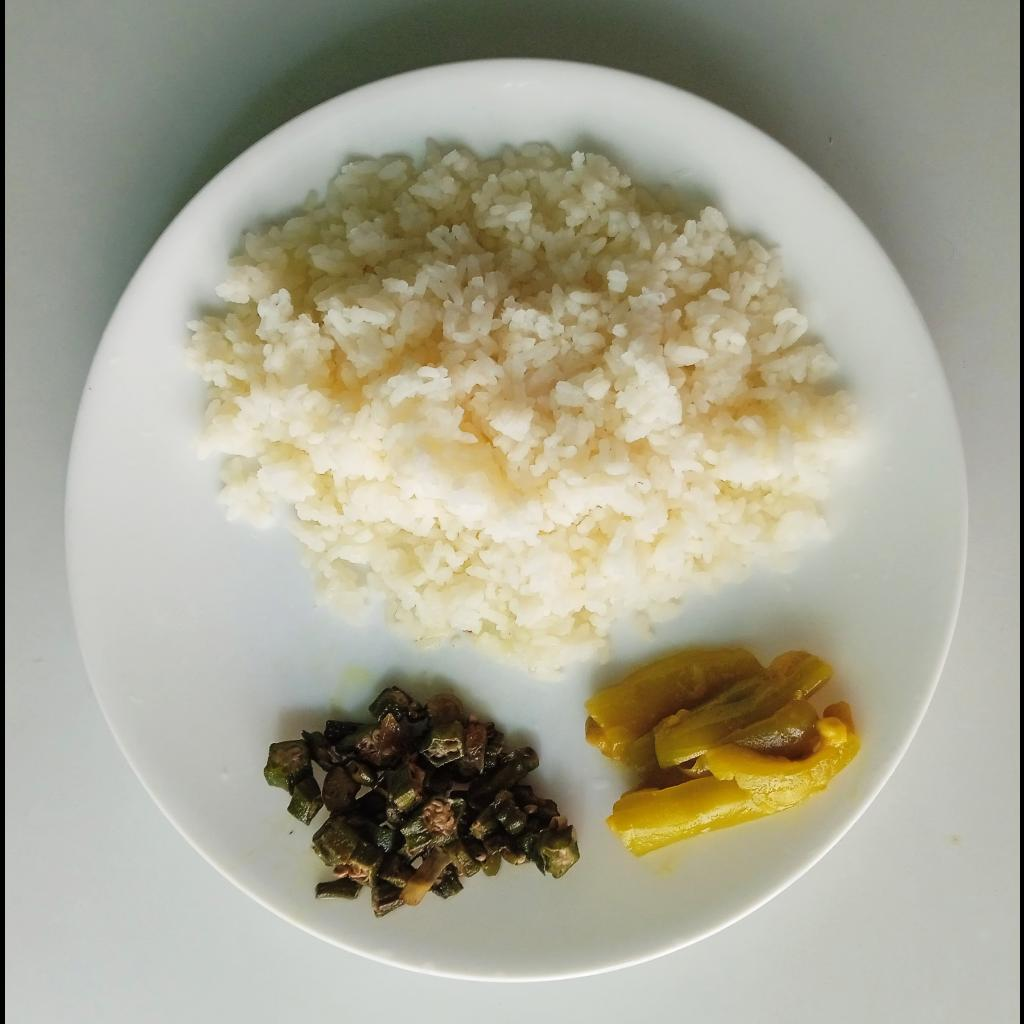okra: (261, 686, 582, 927)
potol: (583, 646, 862, 860)
rice: (183, 140, 861, 685)
